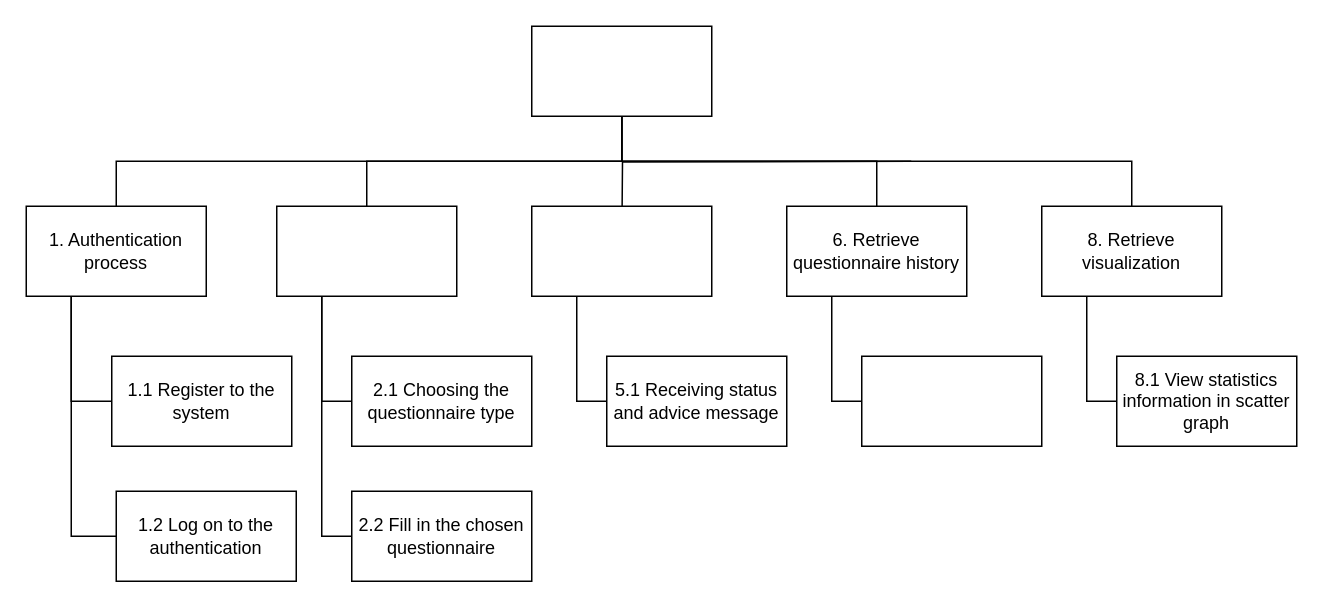
This 1323x608 diagram has some shape labels left out. Here are the shapes that lost their labels. From the top down, the centre of each, then its label:
point (621, 70): SIRA (Athlete)
point (366, 250): 2. Complete the questionnaire
point (621, 250): 5. Notify finished case
point (951, 400): 6.1 Query the result questionnaire history
